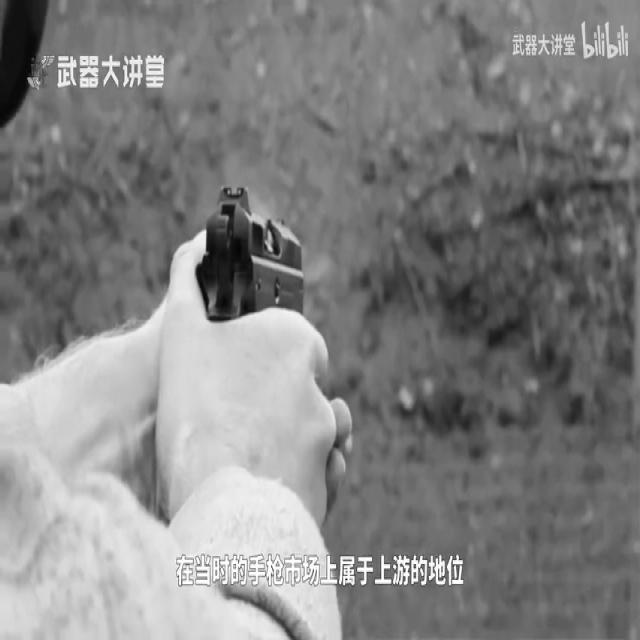Hand-Gun: (184, 167, 316, 331)
